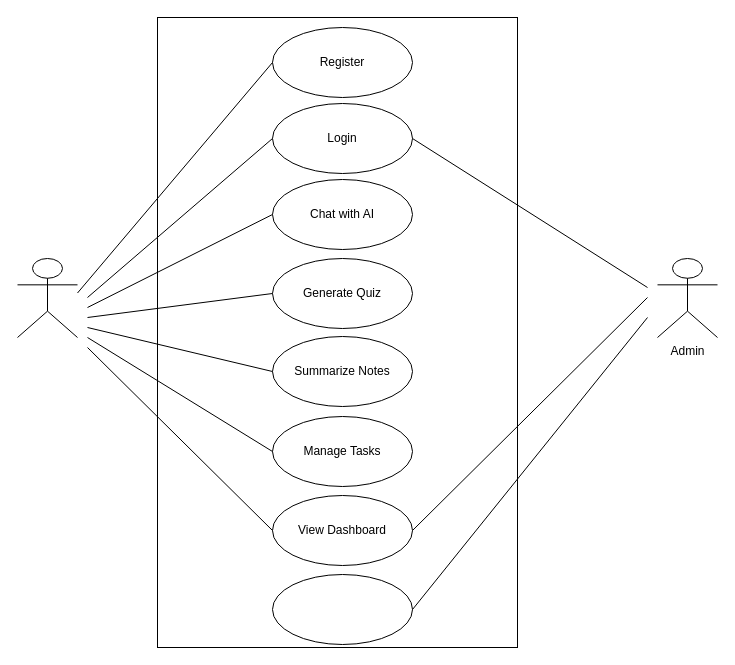
Image size: 735x665. Some labels were removed from this diagram. Here are the shapes that lost their labels. From the top down, the centre of each, then its label:
At [47,298]: "Student".
At [342,609]: "Manage Users".
